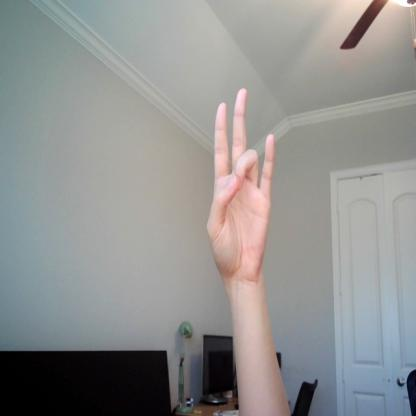seven: (201, 80, 276, 274)
